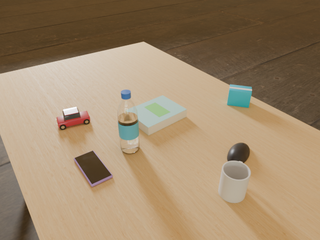book: (136, 95, 187, 135)
bottle: (118, 90, 139, 153)
box: (227, 85, 252, 108)
cup: (218, 161, 251, 203)
mouse: (227, 143, 250, 163)
phone: (74, 151, 113, 187)
toy_car: (56, 107, 90, 130)
